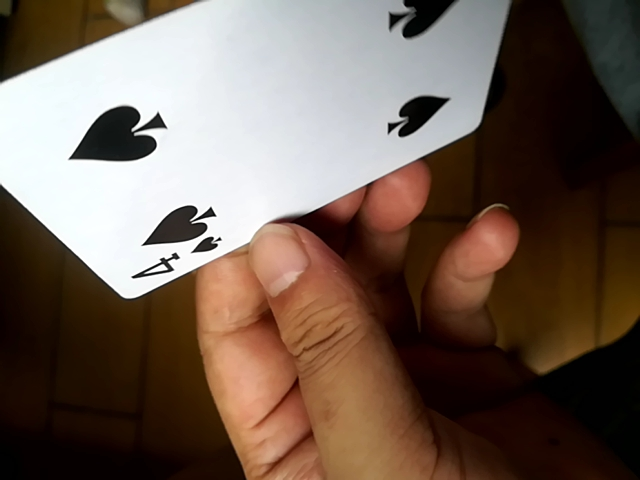ht 4: (0, 3, 520, 299)
